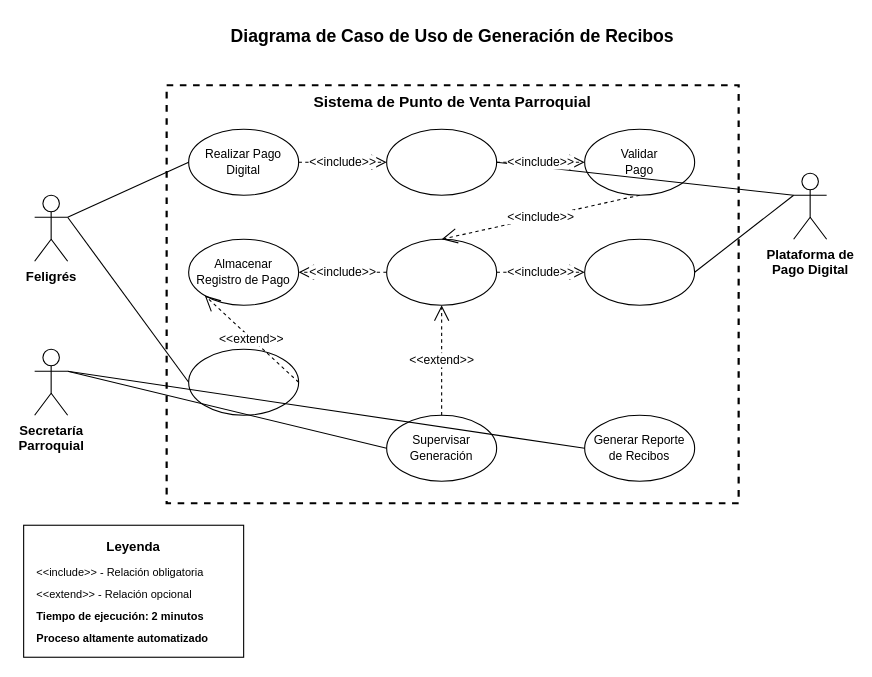
This 872x677 diagram has some shape labels left out. The centre of each missing label's shape, as x and y in pixels:
"Consultar Recibo" belongs at [243,381].
"Enviar Recibo por los medios disponibles" belongs at [639,271].
"Generar Recibo Digital" belongs at [441,271].
"Procesar Pago en Plataforma" belongs at [441,161].
